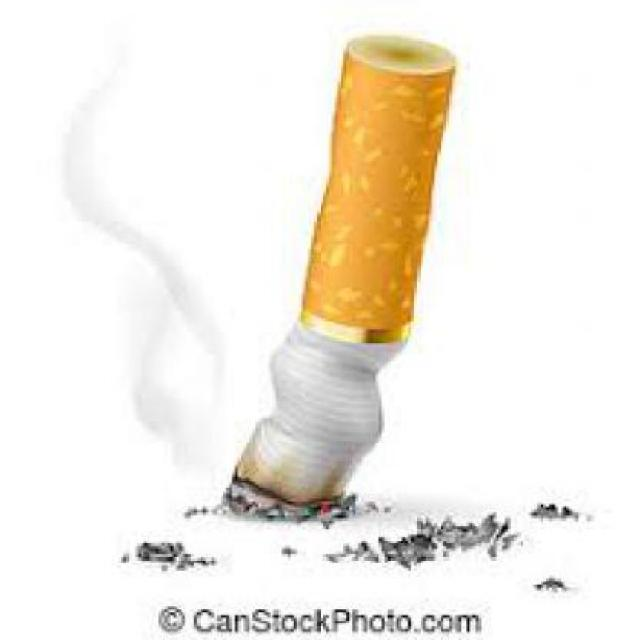cigarette: (223, 33, 475, 510)
